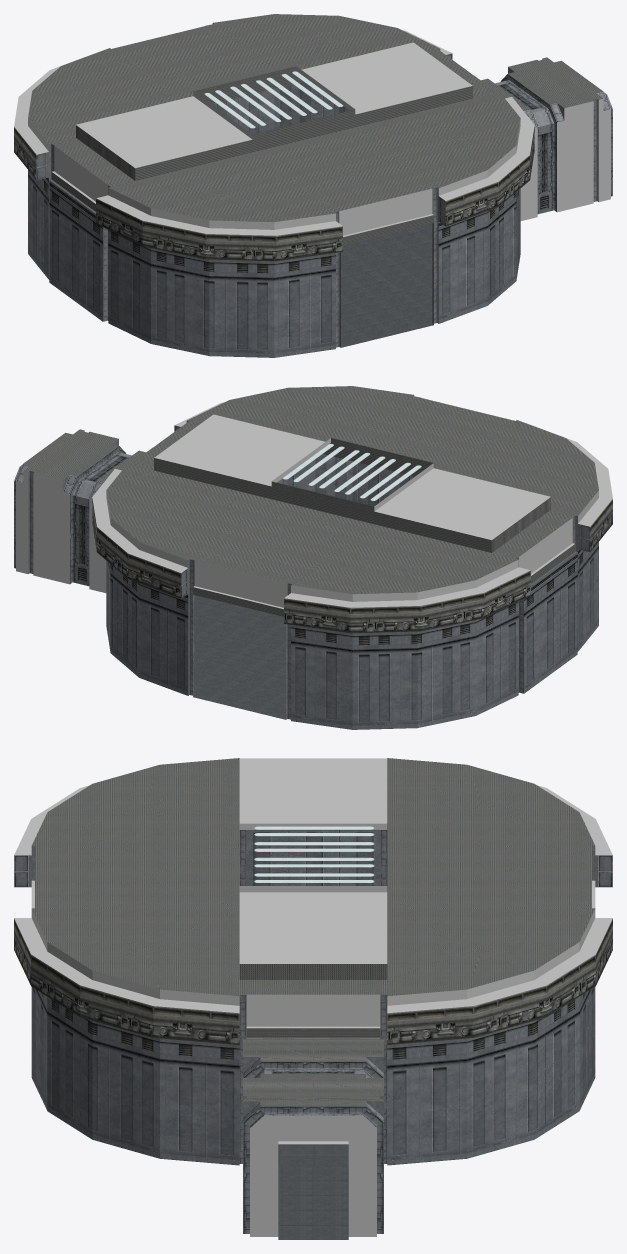
Rendered from poi_all_impl_bunker_small_outpost_s02_r4_anteroom_mesh_r4.fbx.
3 views of the same model, one above another, from view 1: azimuth 30°, elevation 25°; view 2: azimuth 150°, elevation 25°; view 3: azimuth 270°, elevation 25° (orthographic). The views are drawn at different scales.
Parts seen in each view (by area): view 1: mesh_node; view 2: mesh_node; view 3: mesh_node.
Part boxes in pixels (<box>): mesh_node: <box>14,14,612,357</box>; mesh_node: <box>14,386,612,729</box>; mesh_node: <box>14,758,612,1239</box>.
Size of the model in its own units: 21.5 by 6 by 17.
